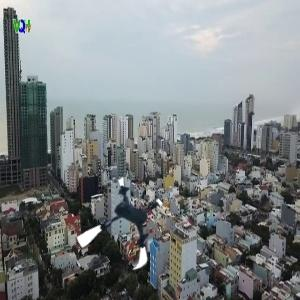drone: (76, 181, 169, 274)
